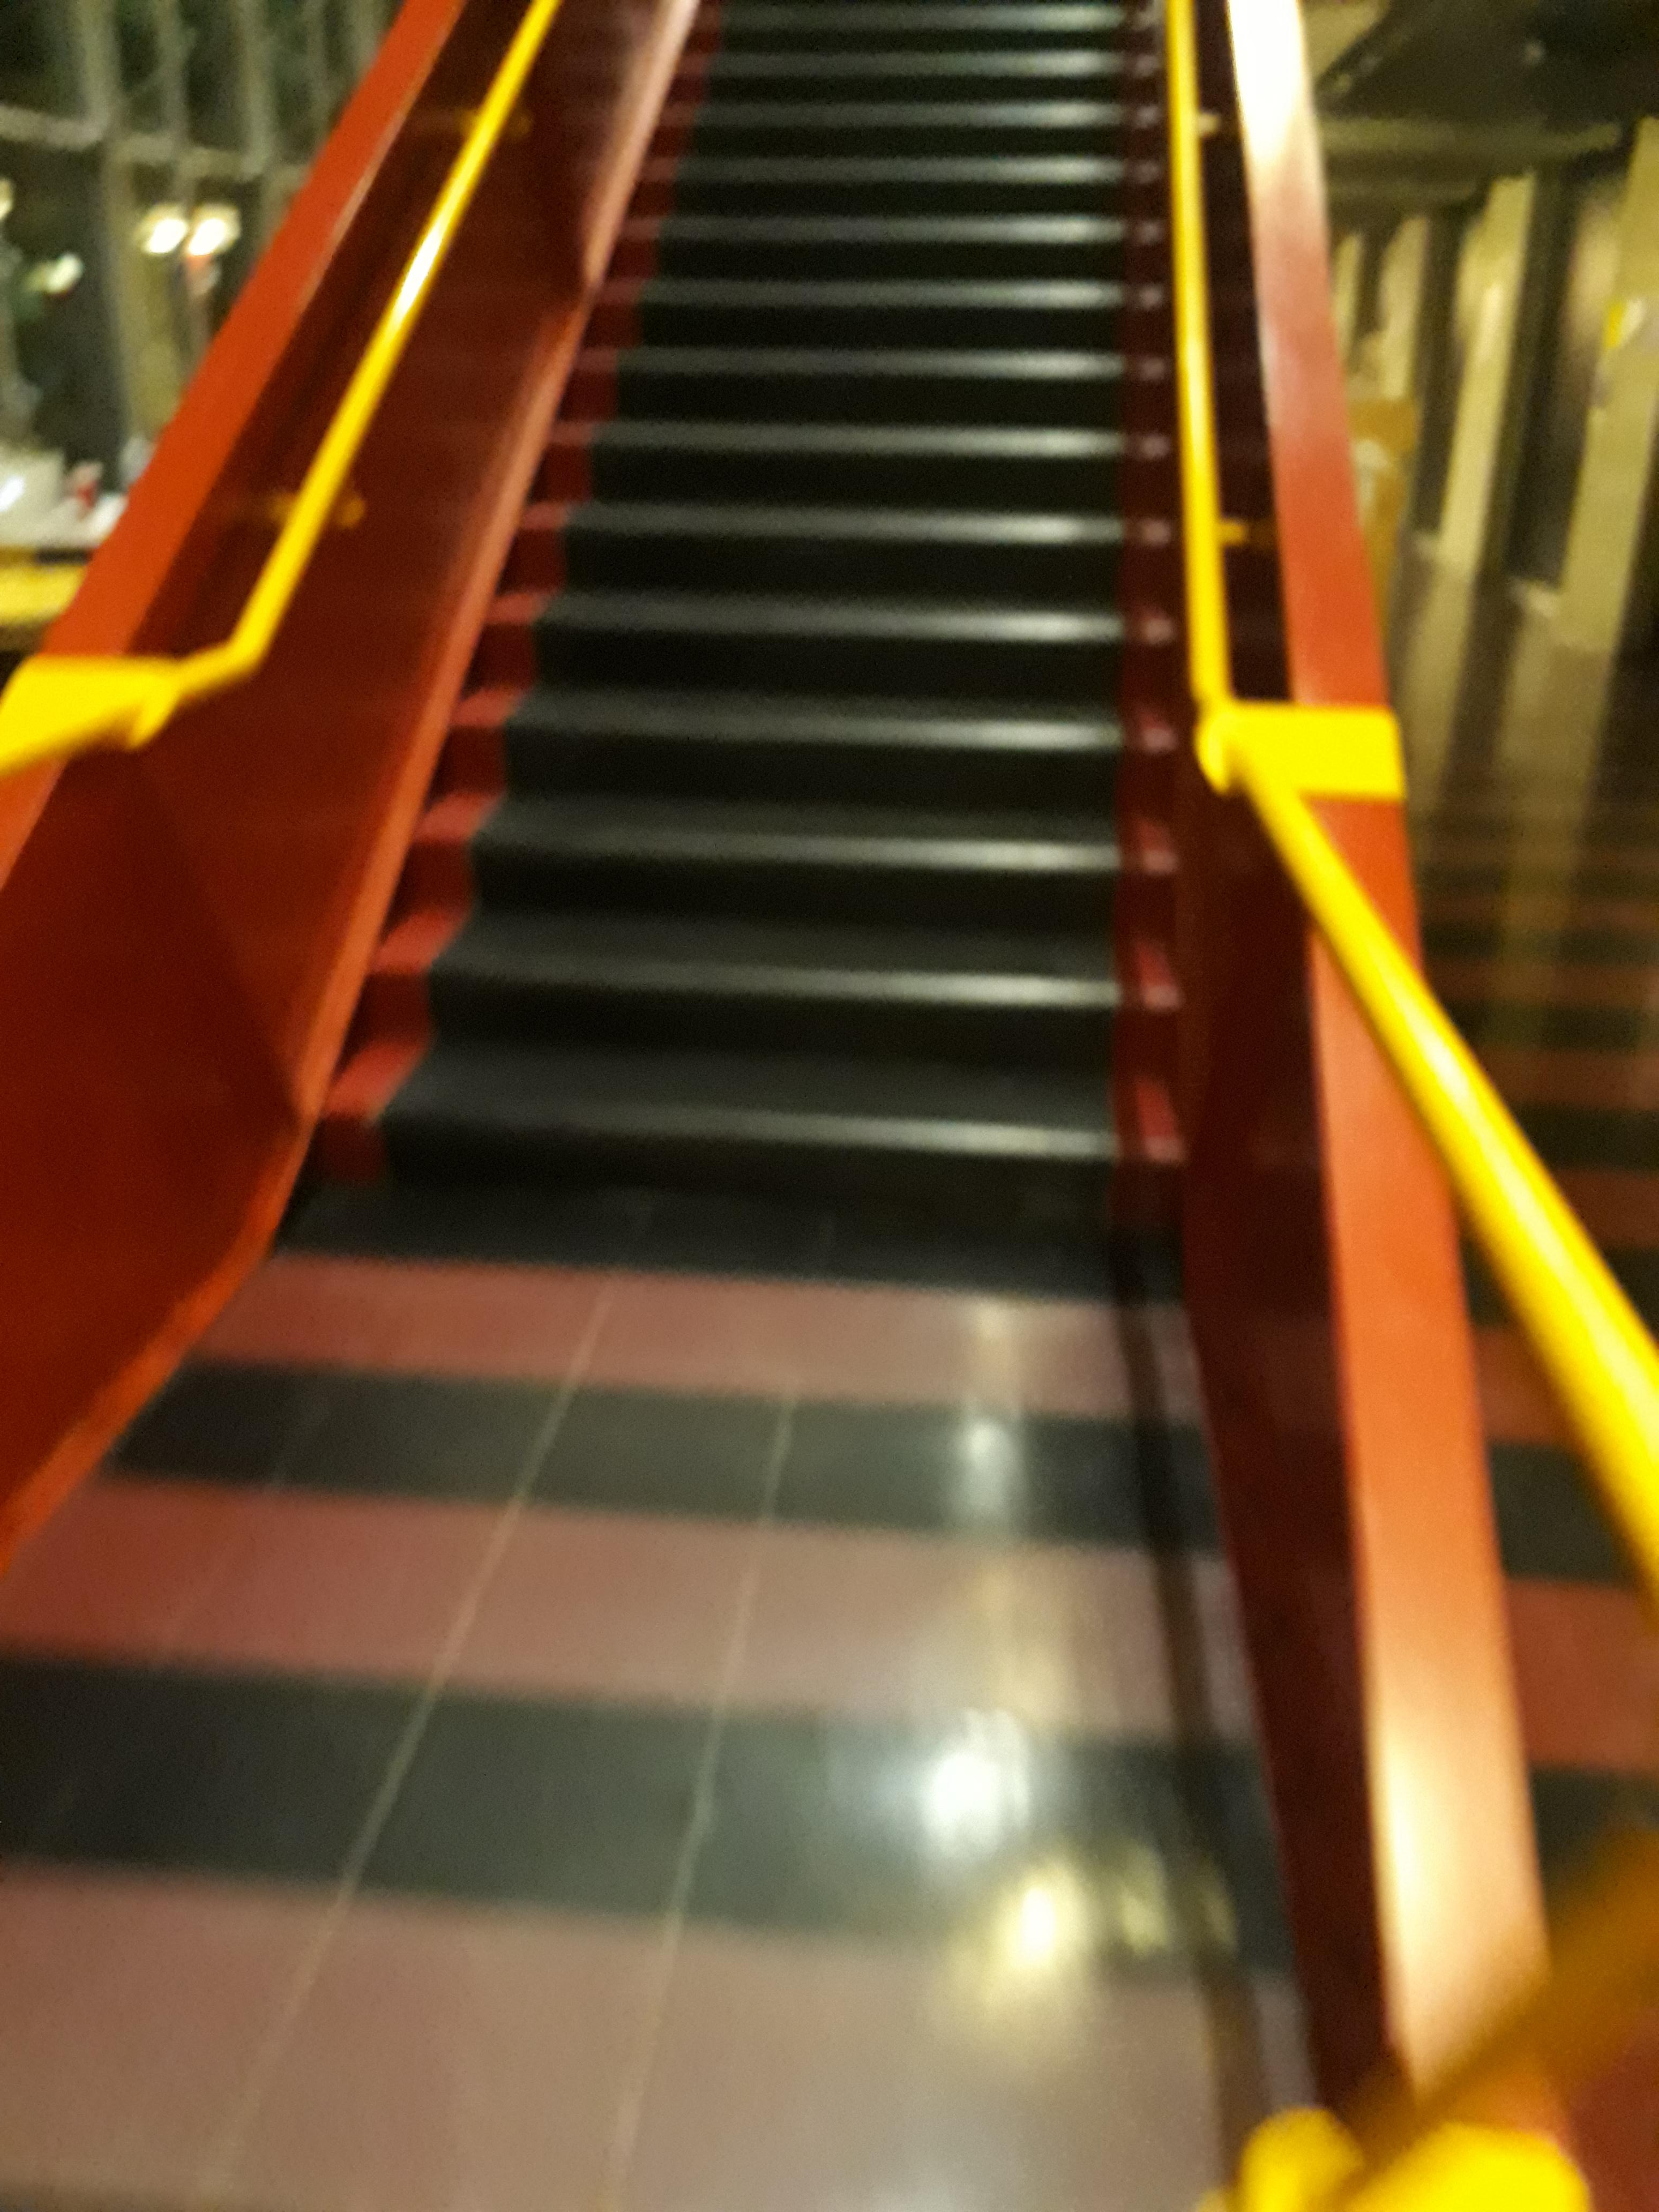stair: (295, 0, 1190, 1235)
